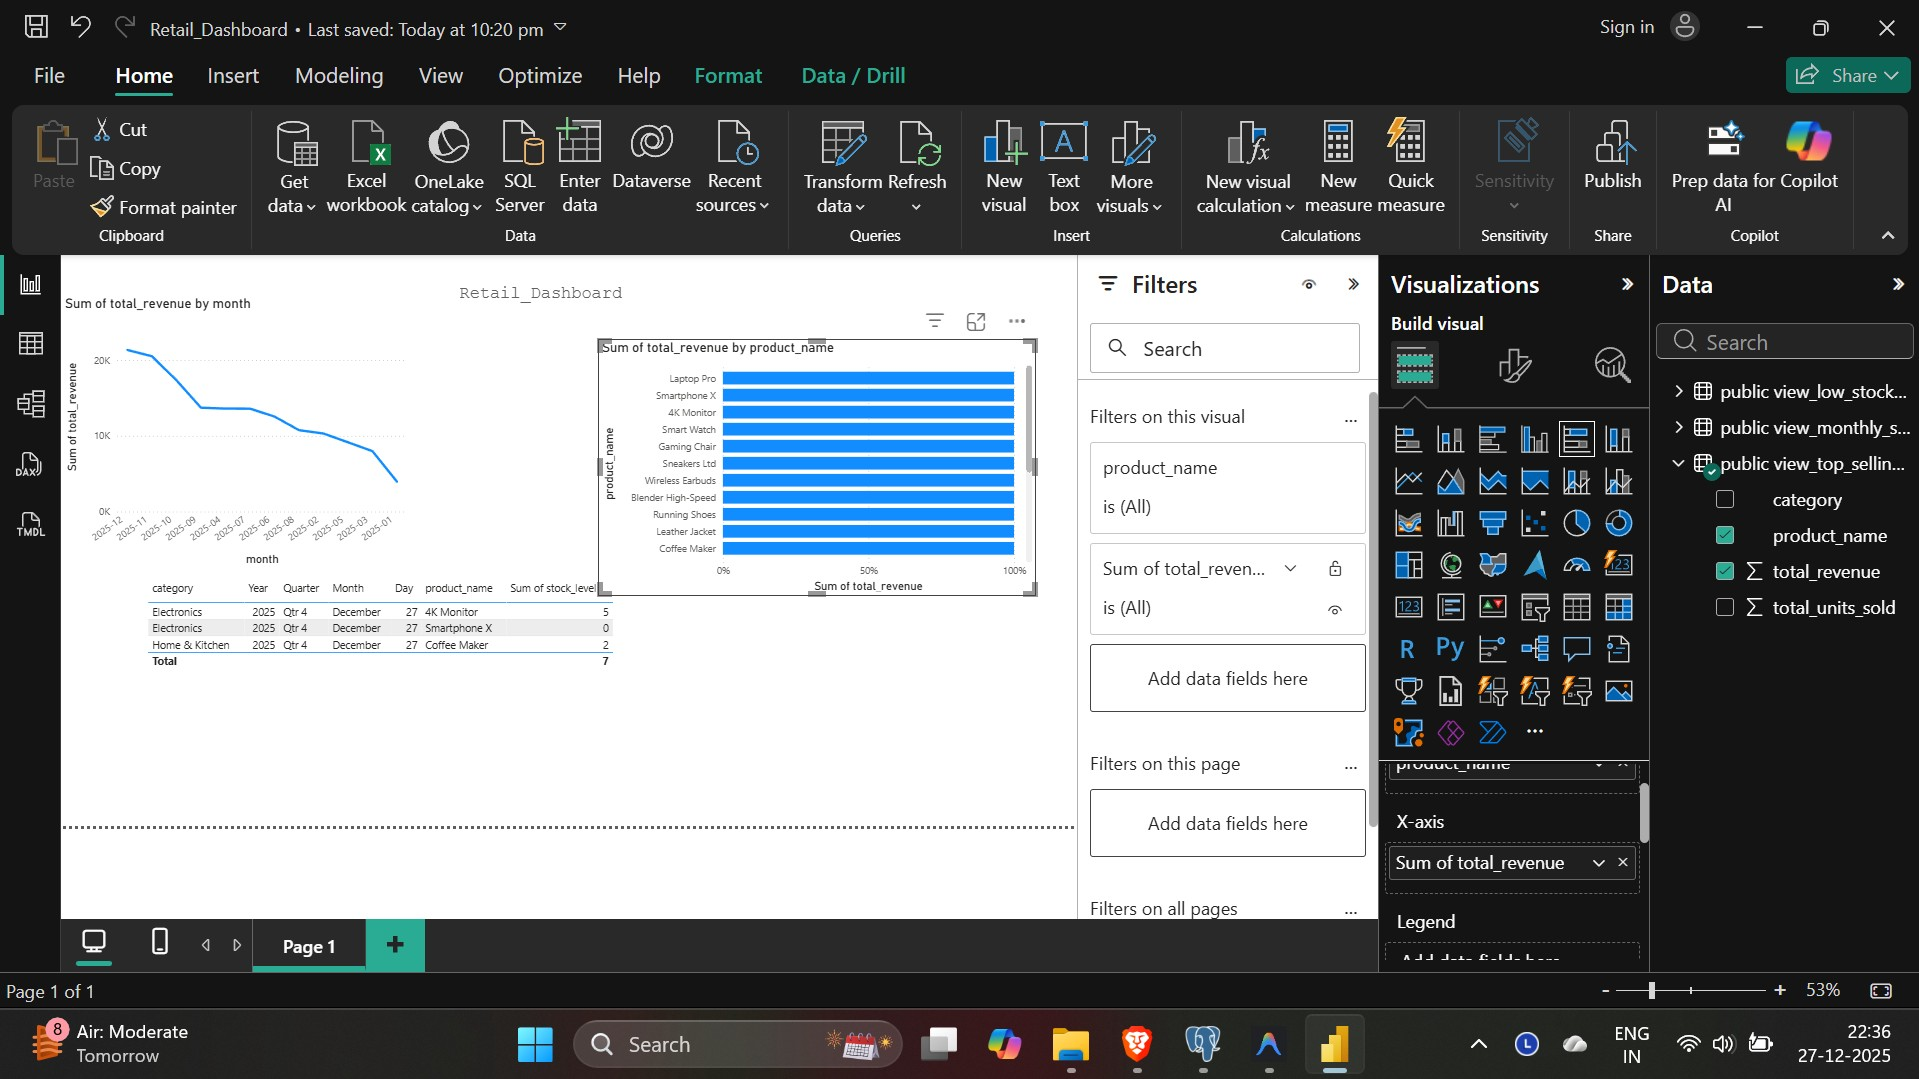

What the dashboard file says about the page in this screenshot:
{"tool":"powerbi","page":{"name":"Page 1","canvas":[1280,720],"ordinal":0},"visuals":[{"type":"lineChart","fields":{"Category":["public view_monthly_sales.month"],"Y":["Sum(public view_monthly_sales.total_revenue)"]},"box":[0,51,440.3,343.9],"z":0},{"type":"hundredPercentStackedBarChart","fields":{"Category":["public view_top_selling_products.product_name"],"Y":["Sum(public view_top_selling_products.total_revenue)"]},"box":[752.1,120.9,440.3,315.6],"z":1},{"type":"textbox","box":[497,30.2,255.1,41.6],"z":3},{"type":"tableEx","fields":{"Values":["public view_low_stock_alerts.category","public view_low_stock_alerts.last_updated.Variation.Date Hierarchy.Year","public view_low_stock_alerts.last_updated.Variation.Date Hierarchy.Quarter","public view_low_stock_alerts.last_updated.Variation.Date Hierarchy.Month","public view_low_stock_alerts.last_updated.Variation.Date Hierarchy.Day","public view_low_stock_alerts.product_name","Sum(public view_low_stock_alerts.stock_level)"]},"box":[111.5,404.4,600.9,315.6],"z":4}]}

Visuals, with their boxes on the page's 1280x720 design canvas (x1, y1, x2, y2). These are canvas units, not pixel positions in the 1919x1079 screenshot, which may show the page scaled, cropped or inside an application window:
lineChart - public view_monthly_sales.month x Sum(public view_monthly_sales.total_revenue): region(0, 51, 440, 395)
hundredPercentStackedBarChart - public view_top_selling_products.product_name x Sum(public view_top_selling_products.total_revenue): region(752, 121, 1192, 436)
textbox: region(497, 30, 752, 72)
tableEx - public view_low_stock_alerts.category x public view_low_stock_alerts.last_updated.Variation.Date Hierarchy.Year: region(112, 404, 712, 720)
